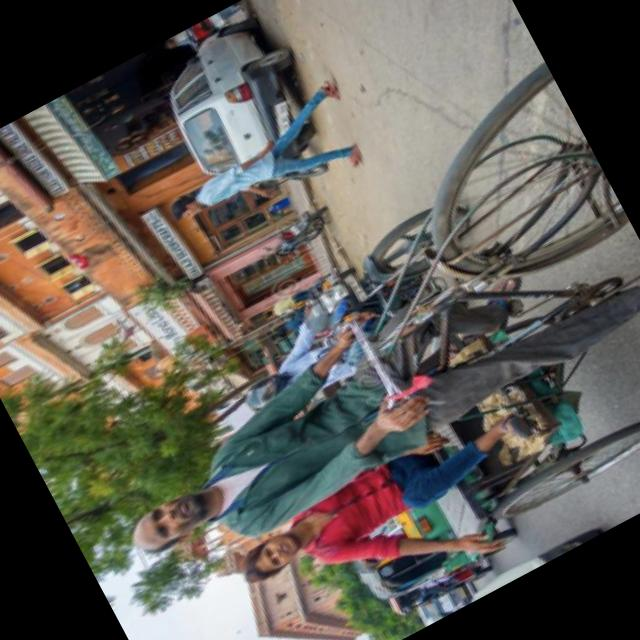bareface: (112, 478, 220, 567), (220, 518, 316, 602)
